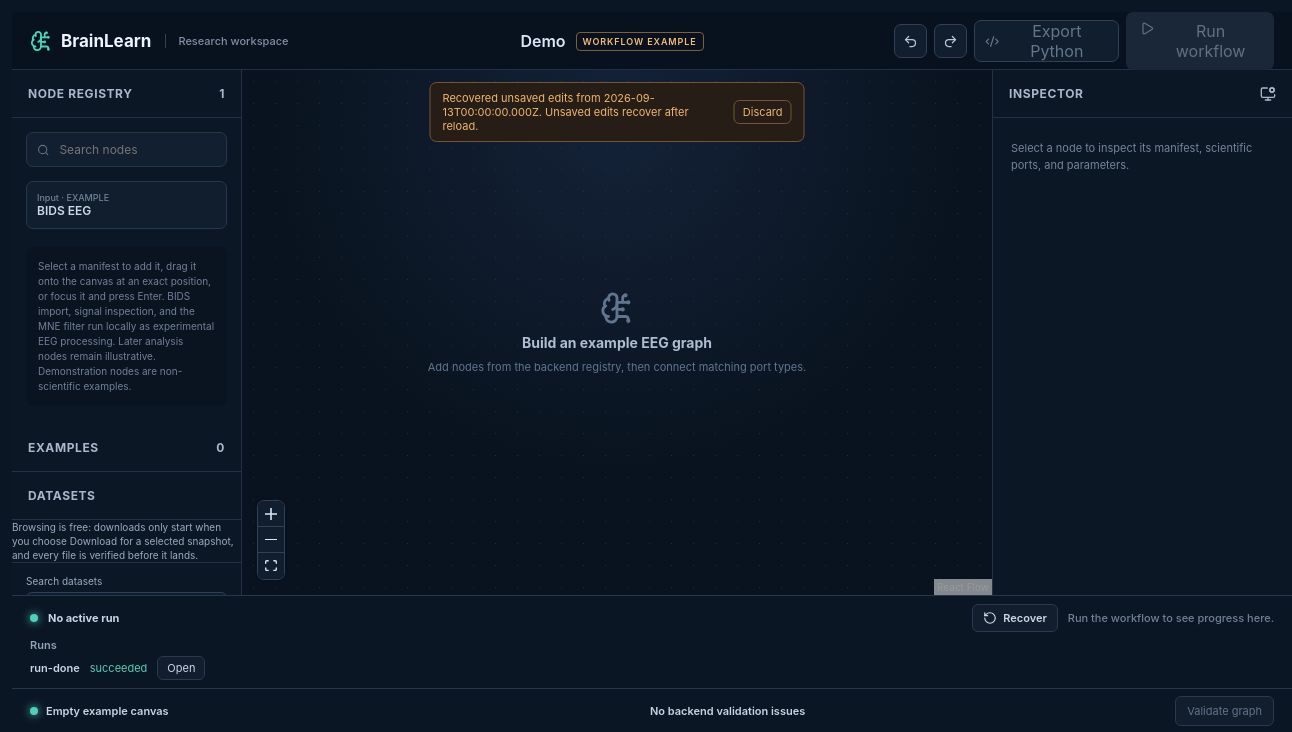
Test case: reload reopens terminal history without run controls
This screenshot has width=1292, height=732.
Expected: the text "run-done" is shown, x1=30 y1=661 x2=80 y2=675
Step 1. Click the button with aria-label "Open run run-done" → (181, 668), box x1=157 y1=656 x2=205 y2=680
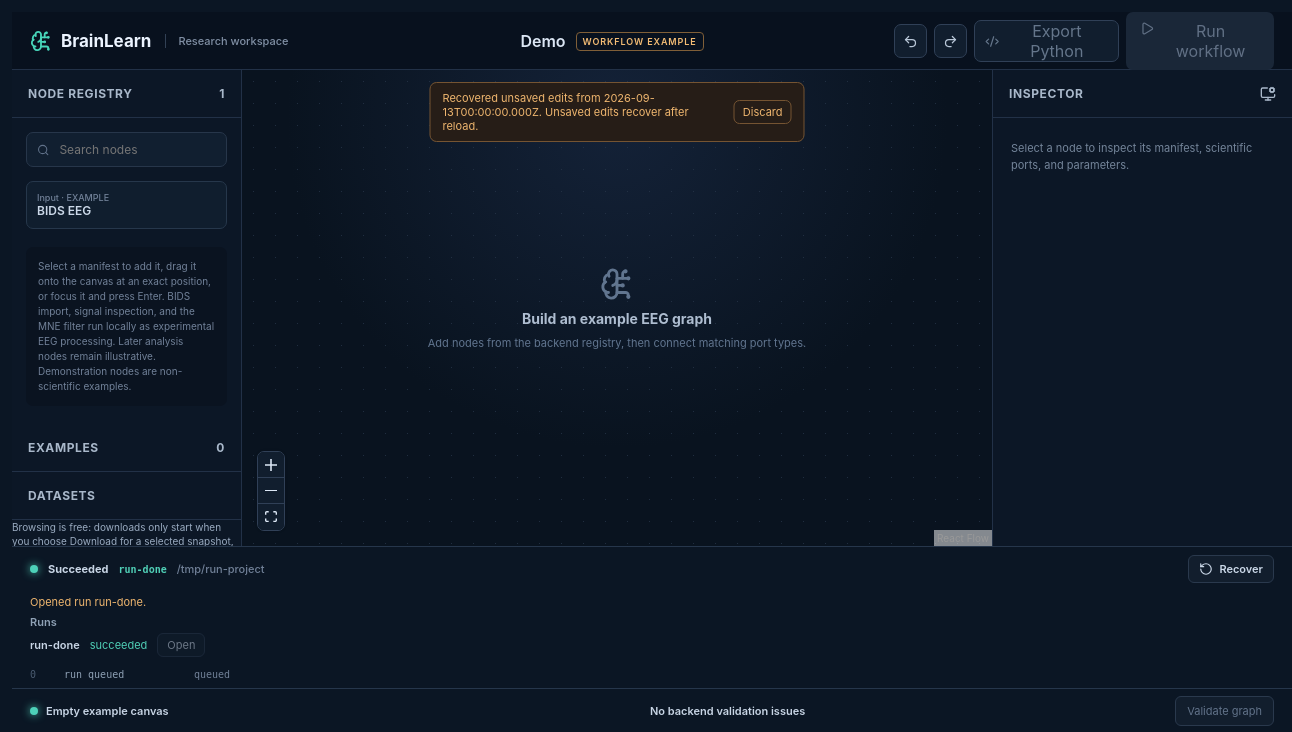
Expected: the text "Succeeded" is shown, x1=48 y1=562 x2=108 y2=576
